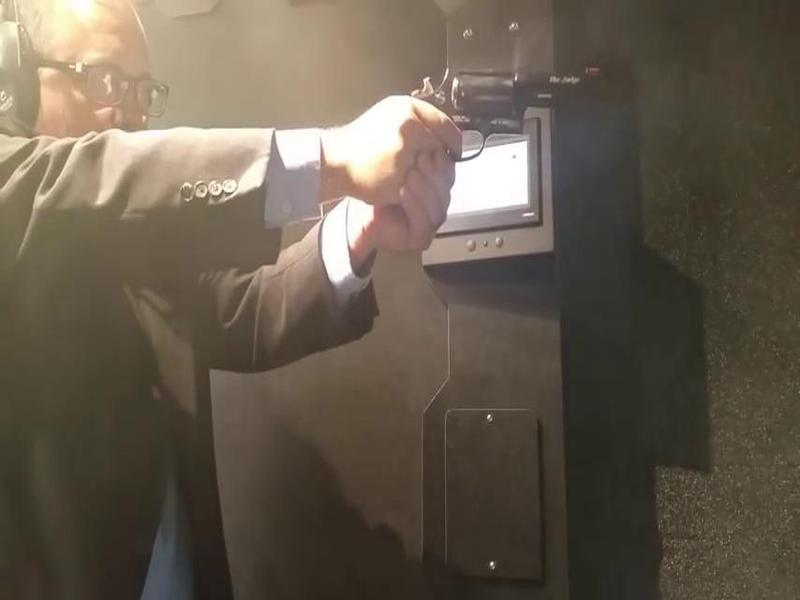Revolver: (409, 49, 615, 197)
